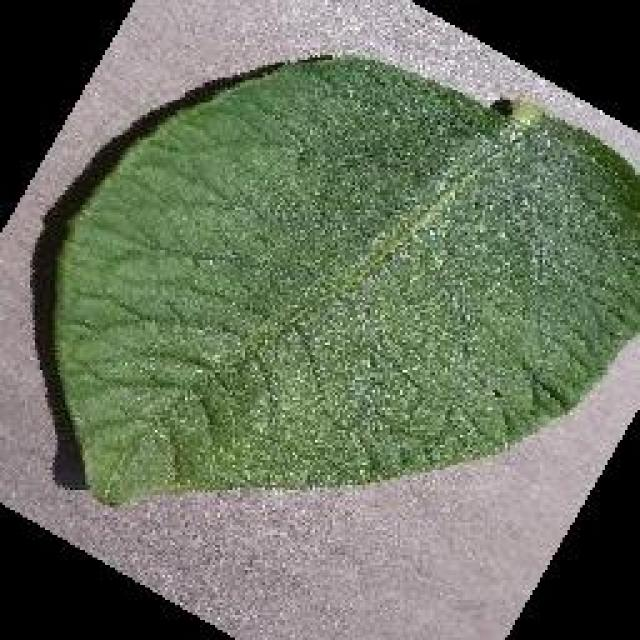Potato___healthy: (54, 53, 638, 511)
